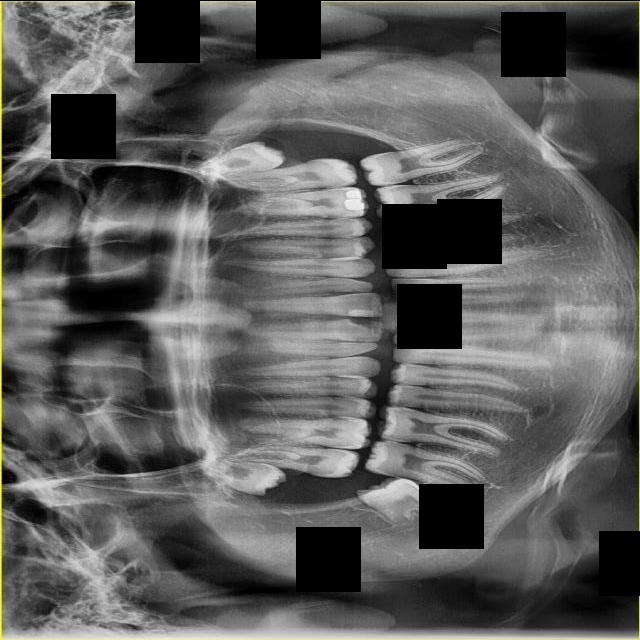NucleOSS Implant: (343, 197, 366, 211), (347, 189, 362, 198)
Sterngold Implant: (345, 314, 382, 332), (339, 389, 366, 397), (351, 334, 376, 341), (391, 399, 413, 406), (344, 286, 364, 292), (382, 180, 397, 184), (389, 214, 403, 218), (386, 184, 397, 187), (392, 218, 404, 220)
Straumann Implant: (347, 307, 379, 317)
